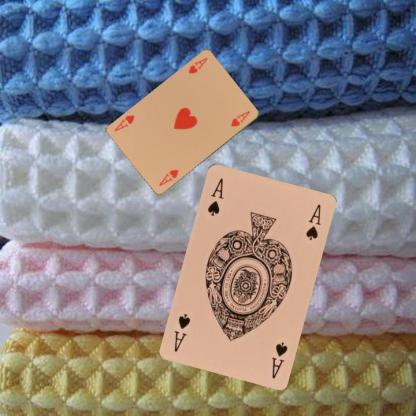Ah: (156, 166, 180, 186), (186, 55, 209, 74)
As: (269, 338, 289, 380), (205, 175, 224, 217)
